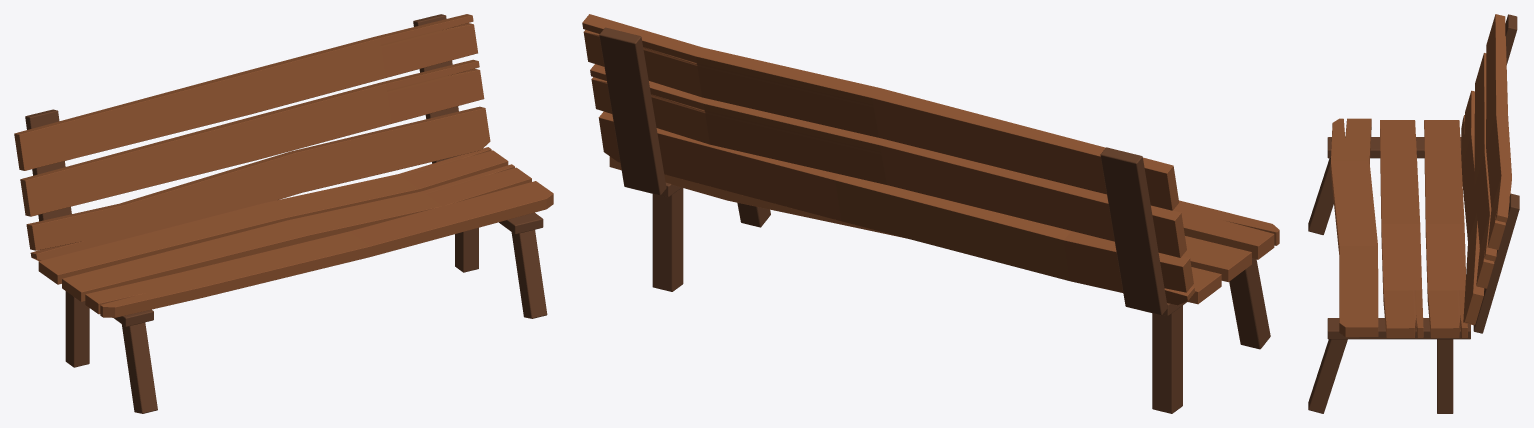
The model's file is Bench_2.fbx.
3 views of the same model, side by side, from view 1: azimuth 30°, elevation 25°; view 2: azimuth 150°, elevation 25°; view 3: azimuth 270°, elevation 25° (orthographic). The views are drawn at different scales.
Parts seen in each view (by area): view 1: Cube.8508; view 2: Cube.8508; view 3: Cube.8508.
Boxes of the visible parts, bbox=[...] form: Cube.8508: bbox=[14, 14, 553, 413]; Cube.8508: bbox=[582, 14, 1279, 413]; Cube.8508: bbox=[1308, 14, 1519, 413].
Bounding box in the file's own units: 361 × 170 × 155.
